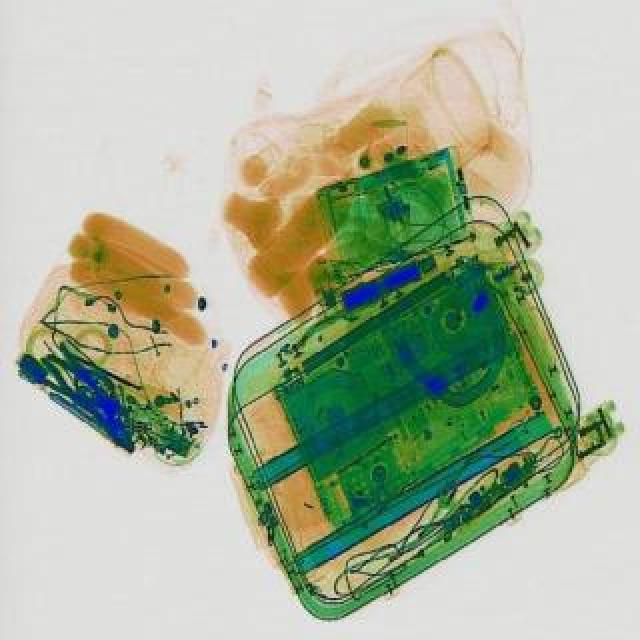wrench: (38, 338, 146, 460), (28, 348, 136, 426)
